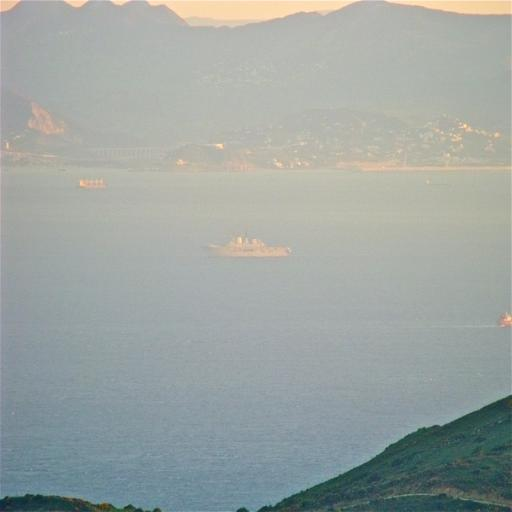Portanaves: (203, 223, 301, 268)
